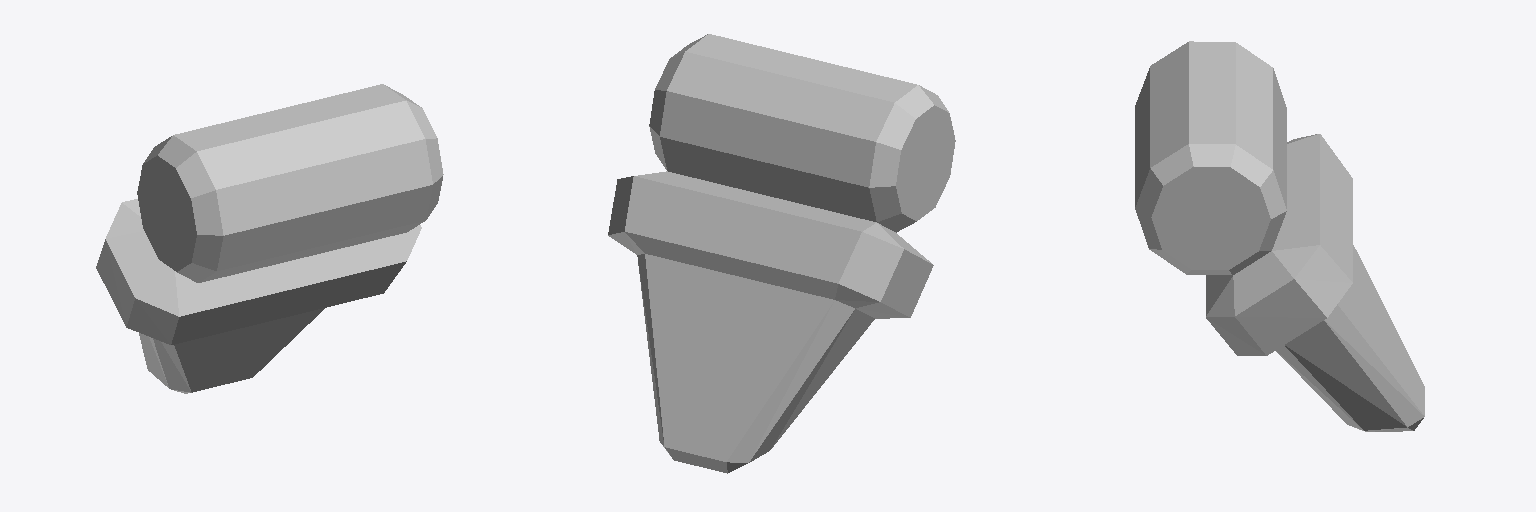
The model's file is turret_base_turret_footB.obj.
3 renders of one model, left to right at view 1: azimuth 30°, elevation 25°; view 2: azimuth 150°, elevation 25°; view 3: azimuth 270°, elevation 25°, orthographic.
Parts seen in each view (by area): view 1: turret_footB; view 2: turret_footB; view 3: turret_footB.
Part boxes in pixels (left/top/right/bottom): turret_footB: left=96, top=84, right=443, bottom=393; turret_footB: left=608, top=34, right=955, bottom=473; turret_footB: left=1135, top=41, right=1424, bottom=431.
Size of the model in its own units: 0.4209 by 0.4584 by 0.3684.